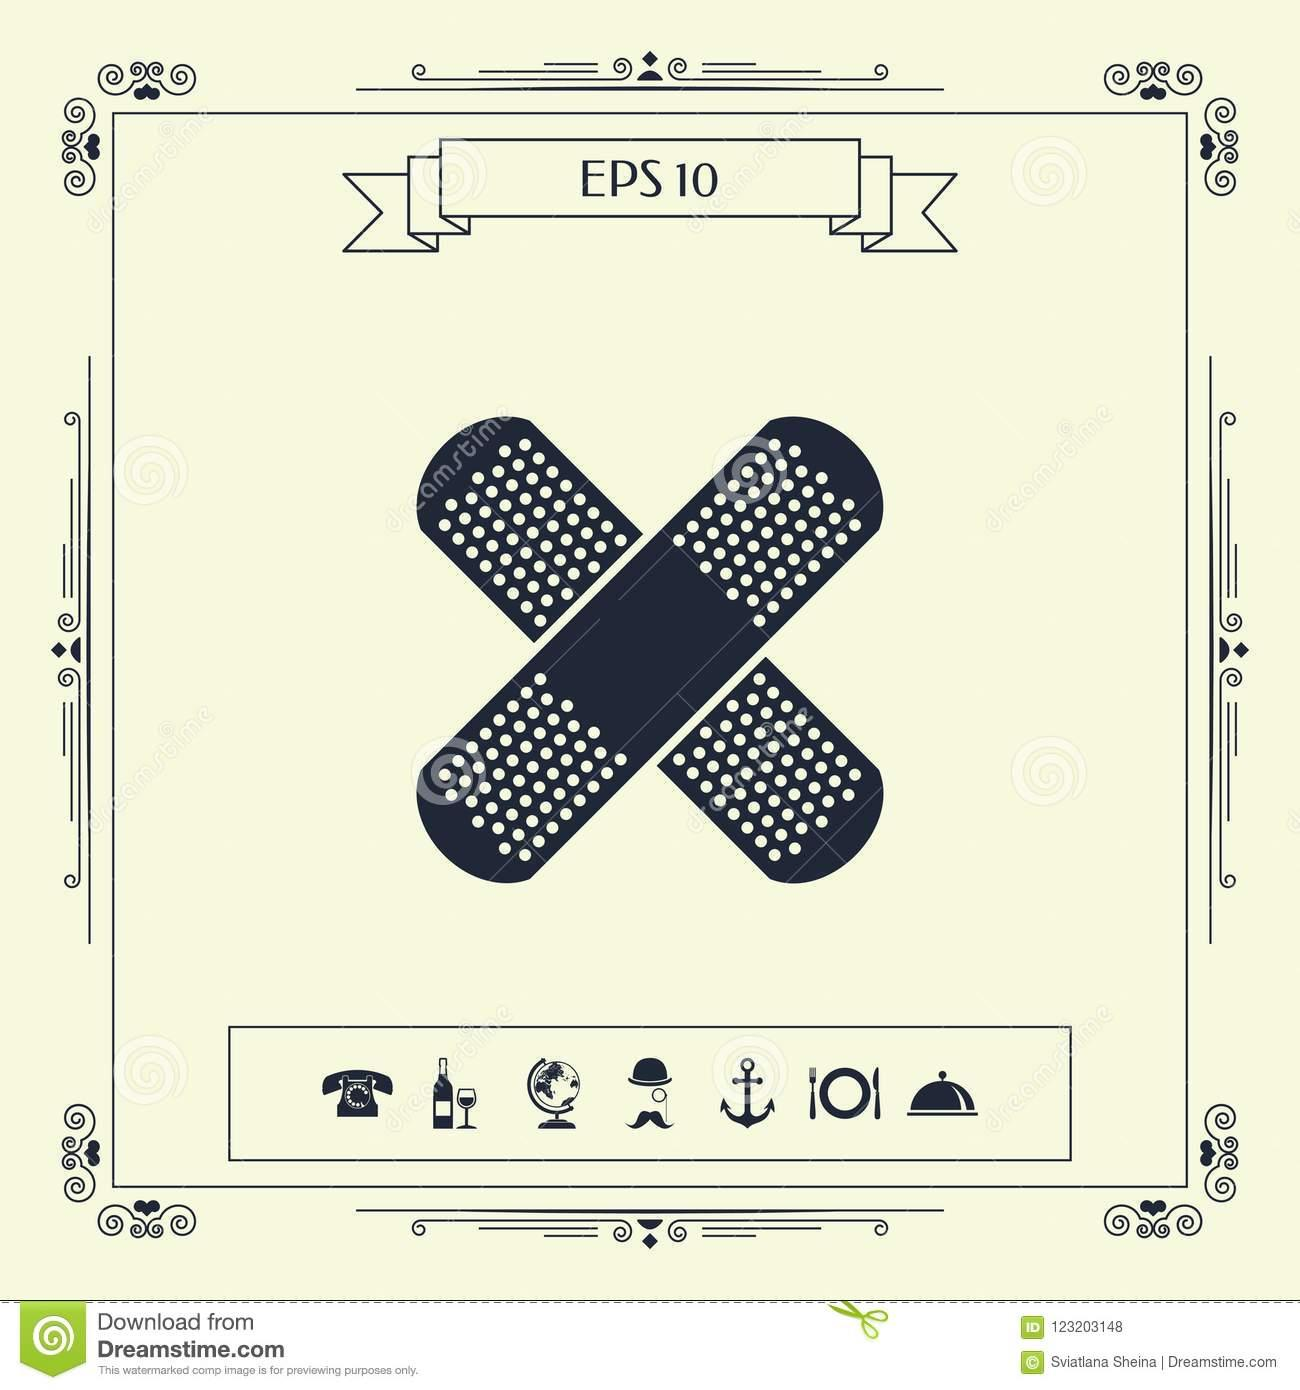bandage: (415, 410, 889, 886)
